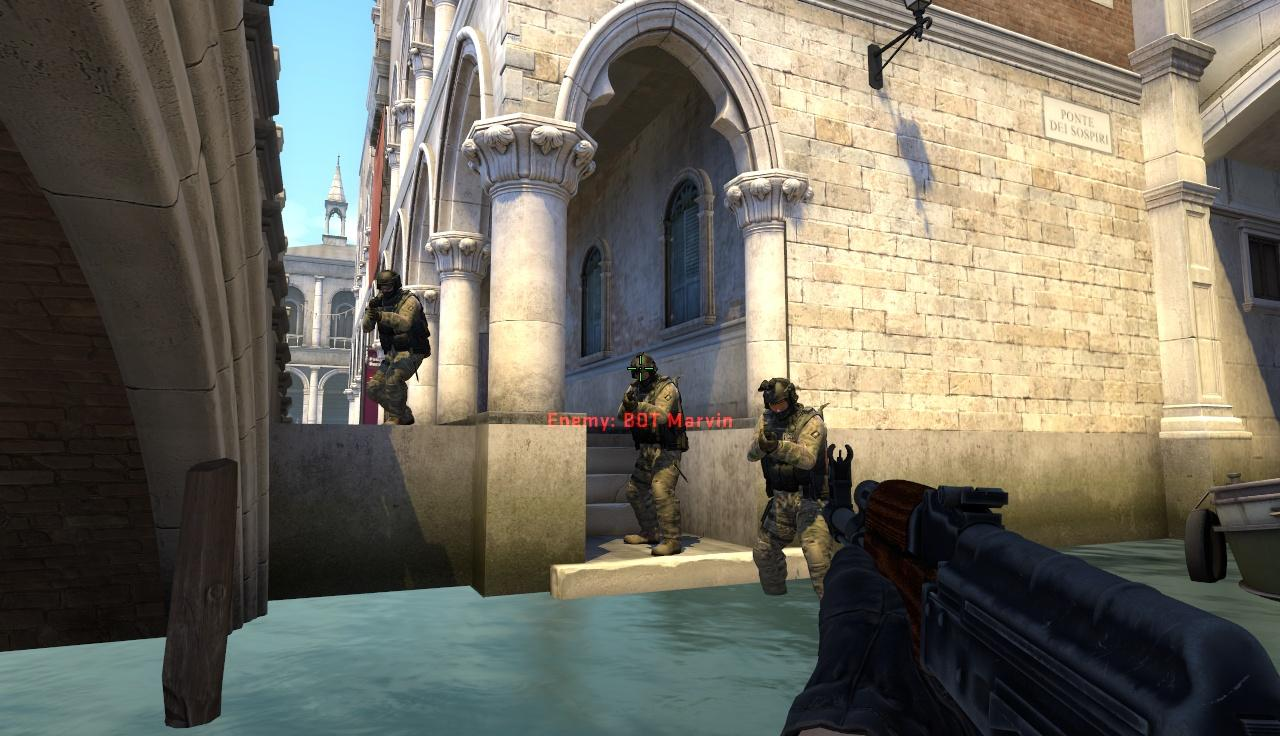ct: (750, 377, 827, 598), (625, 354, 684, 556), (368, 270, 423, 425)
cthead: (759, 379, 799, 419), (628, 355, 659, 385), (373, 273, 402, 299)
rifle: (824, 441, 1280, 736)
